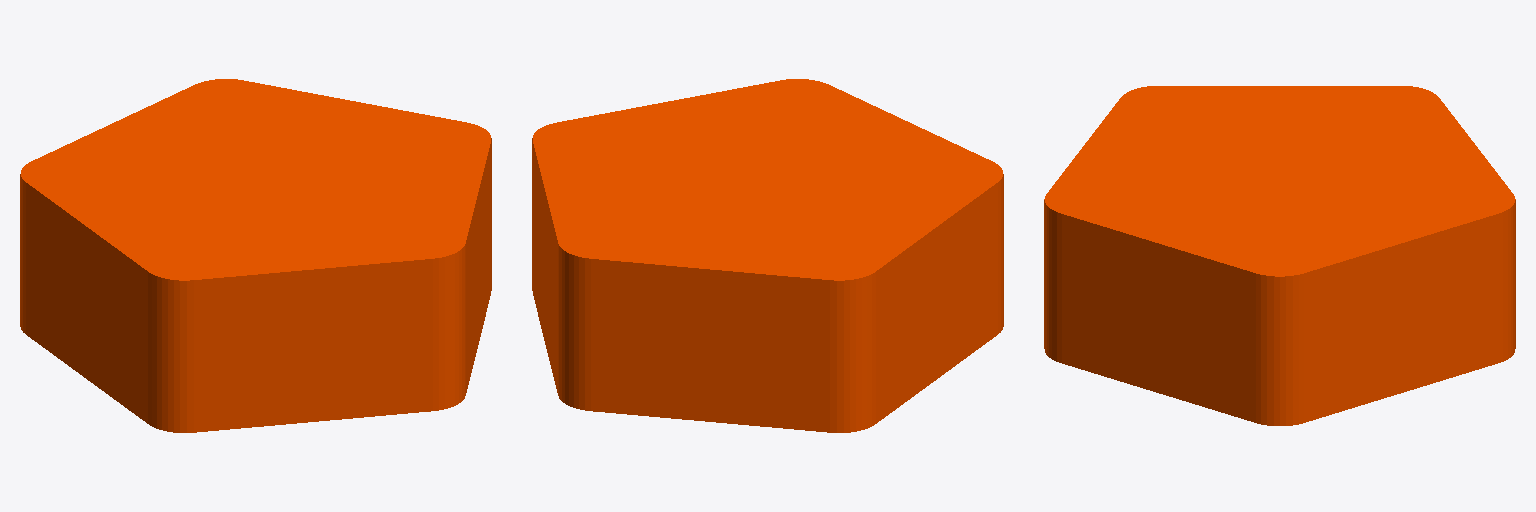
URDF robot description (objects):
<?xml  version="1.0"?>
<robot name ="objects"> 
    <!-- Author: [author]; e-mail:[email redacted]. The urdf file was develped in tongji university.-->

    <!--create  color params-->
    <material name ="LightGrey">
        <color rgba="0.7 0.7 0.7 1.0"/>
    </material>

    <material name ="White">
        <color rgba="1 1 1 1.0"/>
    </material>

    <material name ="Green">
        <color rgba="0.1 0. 1.0 1.0"/>
    </material>

    <material name ="Yellow">
        <color rgba="1. 1. 0. 1.0"/>
    </material>

    <material name ="Orange">
        <color rgba="1. 0.38 0. 1.0"/>
    </material>

    <material name ="Blue">
        <color rgba="0.69 0.87 0.9 1.0"/>
    </material>

    <mass name ="table_mass">
        <mass value="1.0"/>
    </mass>

    <mass name ="cylander_mass">
        <mass value="2.0"/>
    </mass>



    <link  name ="World"/>

    <joint name="cylinder1_to_world" type="floating">
        <parent link="World"/>
        <child link="cylinder1"/>
        <origin xyz="0. 0. 0." rpy="0.0 0.0 0.0"/>
    </joint>

    <link name = "cylinder1">
        <contact>
            <lateral_friction value="0.05"/>
            <rolling_friction value="0.0"/>
            <contact_erp value="1.0"/>
        </contact>
        <visual>
            <origin  xyz="0.0 0.0 0.0" rpy="0.0 0.0 0.0"/>
            <geometry>
                <mesh filename = "meshes/star_2.dae"/>
            </geometry >
            <material name ="Orange"/>
        </visual>
        <collision>
            <origin xyz="0.0 0.0 0.0" rpy="0.0 0.0 0.0"/>
            <geometry>
                <mesh filename ="meshes/star_2.dae"/>
            </geometry>
        </collision>
        <inertial>
            <mass value = "0.5"/>
            <inertia ixx="1" ixy="0.0" ixz="0.0" iyy="1" iyz="0.0" izz="1"/>
        </inertial>
    </link>
</robot>

--- Facts derived from the render (not from the file) ---
Views: 3 orthographic renders of the robot side by side, from view 1: azimuth 30°, elevation 25°; view 2: azimuth 150°, elevation 25°; view 3: azimuth 270°, elevation 25°.
Robot: objects — 2 links, 1 joints (1 floating); root link World; default pose: every joint at zero.
Visible links, largest first — view 1: cylinder1; view 2: cylinder1; view 3: cylinder1.
Link boxes in pixels (x1,y1,x2,y2): cylinder1: [20, 79, 491, 432]; cylinder1: [532, 79, 1003, 432]; cylinder1: [1044, 86, 1515, 425].
Size in the robot's own frame: 0.1094 by 0.114 by 0.04 metres.
1 mesh visuals loaded from 1 distinct referenced files (1 Collada DAE).